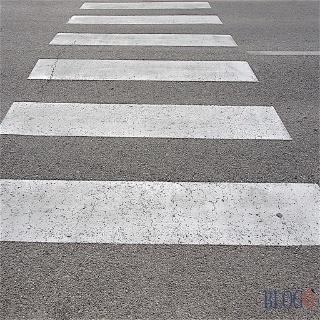road_crosswalk: (2, 0, 319, 245)
